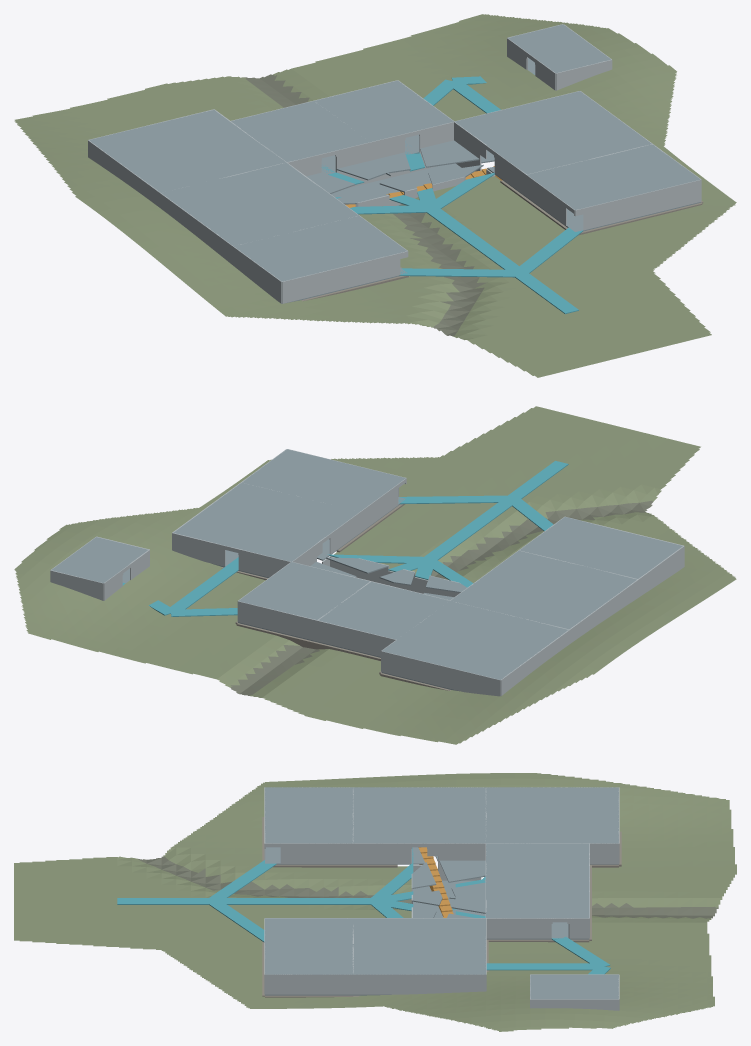
Rendered from open-circulation.glb.
3 views of the same model, one above another, from view 1: azimuth 30°, elevation 25°; view 2: azimuth 150°, elevation 25°; view 3: azimuth 270°, elevation 25° (orthographic). The views are drawn at different scales.
Parts seen in each view (by area): view 1: Saved editor macroterrain WLD-08, Ceiling cap lab, Ceiling cap dorm, Ceiling cap generator, Ceiling cap store, Ceiling cap mess, Ceiling cap radio, Ceiling cap records, Flat route shell Wall store S, Flat route shell Wall mess S, Ceiling cap shelter, Flat route shell Restored ceiling-cap tunnel 6 region1 (+18 smaller); view 2: Saved editor macroterrain WLD-08, Ceiling cap generator, Ceiling cap dorm, Ceiling cap lab, Ceiling cap mess, Ceiling cap store, Ceiling cap records, Ceiling cap radio, Wall generator N, Ceiling cap shelter, Wall records N, Wall radio N (+14 smaller); view 3: Saved editor macroterrain WLD-08, Ceiling cap lab, Ceiling cap generator, Ceiling cap dorm, Ceiling cap store, Ceiling cap mess, Ceiling cap radio, Ceiling cap records, Wall dorm E, Ceiling cap shelter, Wall mess E, Wall store E (+17 smaller).
Part boxes in pixels (left/top/right/bottom): Saved editor macroterrain WLD-08: left=14, top=14, right=736, bottom=377; Ceiling cap lab: left=161, top=162, right=358, bottom=246; Ceiling cap dorm: left=454, top=91, right=651, bottom=174; Ceiling cap generator: left=89, top=109, right=285, bottom=192; Ceiling cap store: left=234, top=216, right=407, bottom=281; Ceiling cap mess: left=527, top=144, right=700, bottom=210; Ceiling cap radio: left=231, top=101, right=370, bottom=162; Ceiling cap records: left=315, top=80, right=453, bottom=141; Flat route shell Wall store S: left=282, top=251, right=407, bottom=303; Flat route shell Wall mess S: left=575, top=179, right=701, bottom=230; Ceiling cap shelter: left=508, top=24, right=610, bottom=73; Flat route shell Restored ceiling-cap tunnel 6 region1: left=337, top=164, right=483, bottom=204; Saved editor macroterrain WLD-08: left=14, top=406, right=736, bottom=744; Ceiling cap generator: left=382, top=601, right=568, bottom=679; Ceiling cap dorm: left=173, top=483, right=359, bottom=561; Ceiling cap lab: left=450, top=550, right=636, bottom=629; Ceiling cap mess: left=242, top=449, right=405, bottom=511; Ceiling cap store: left=519, top=517, right=682, bottom=578; Ceiling cap records: left=238, top=562, right=369, bottom=619; Ceiling cap radio: left=318, top=581, right=449, bottom=639; Wall generator N: left=381, top=651, right=500, bottom=696; Ceiling cap shelter: left=51, top=537, right=148, bottom=583; Wall records N: left=237, top=601, right=317, bottom=641; Wall radio N: left=317, top=620, right=396, bottom=656; Saved editor macroterrain WLD-08: left=14, top=773, right=736, bottom=1031; Ceiling cap lab: left=353, top=787, right=485, bottom=843; Ceiling cap generator: left=486, top=787, right=618, bottom=843; Ceiling cap dorm: left=353, top=918, right=485, bottom=974; Ceiling cap store: left=265, top=787, right=353, bottom=843; Ceiling cap mess: left=265, top=918, right=353, bottom=974; Ceiling cap radio: left=486, top=843, right=589, bottom=880; Ceiling cap records: left=486, top=881, right=589, bottom=918; Wall dorm E: left=353, top=974, right=485, bottom=994; Ceiling cap shelter: left=530, top=974, right=618, bottom=999; Wall mess E: left=265, top=974, right=353, bottom=994; Wall store E: left=280, top=843, right=353, bottom=863.
Bounding box in the file's own units: 83 × 5.66 × 98.
